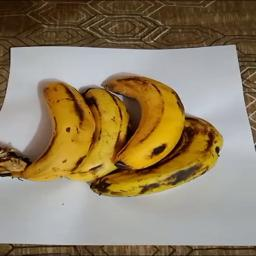Banana Semifresh: (7, 79, 231, 201)
